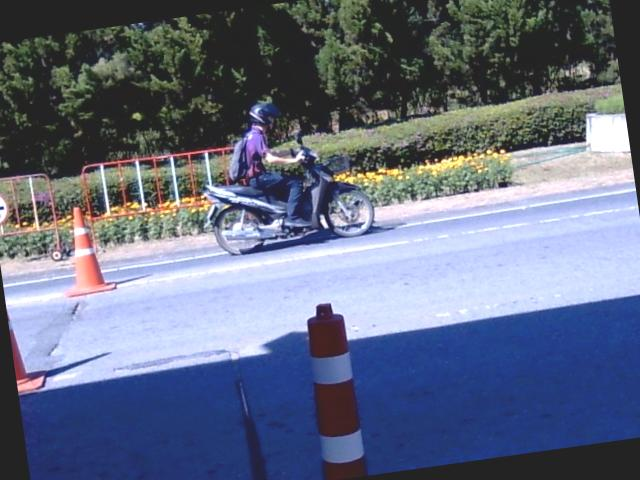helmet: (248, 101, 280, 130)
motor: (204, 145, 373, 254)
person: (246, 103, 309, 225)
